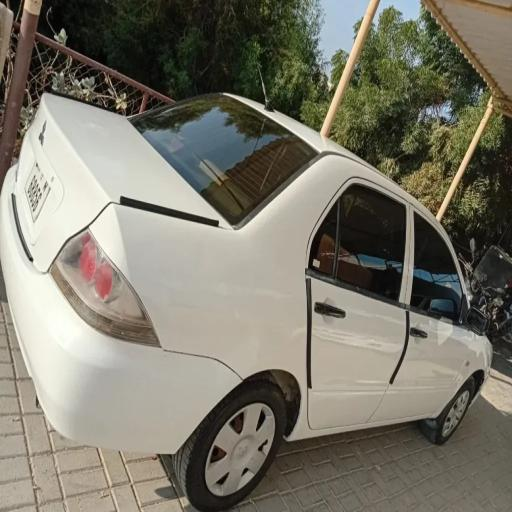license-plates: (24, 160, 51, 224)
